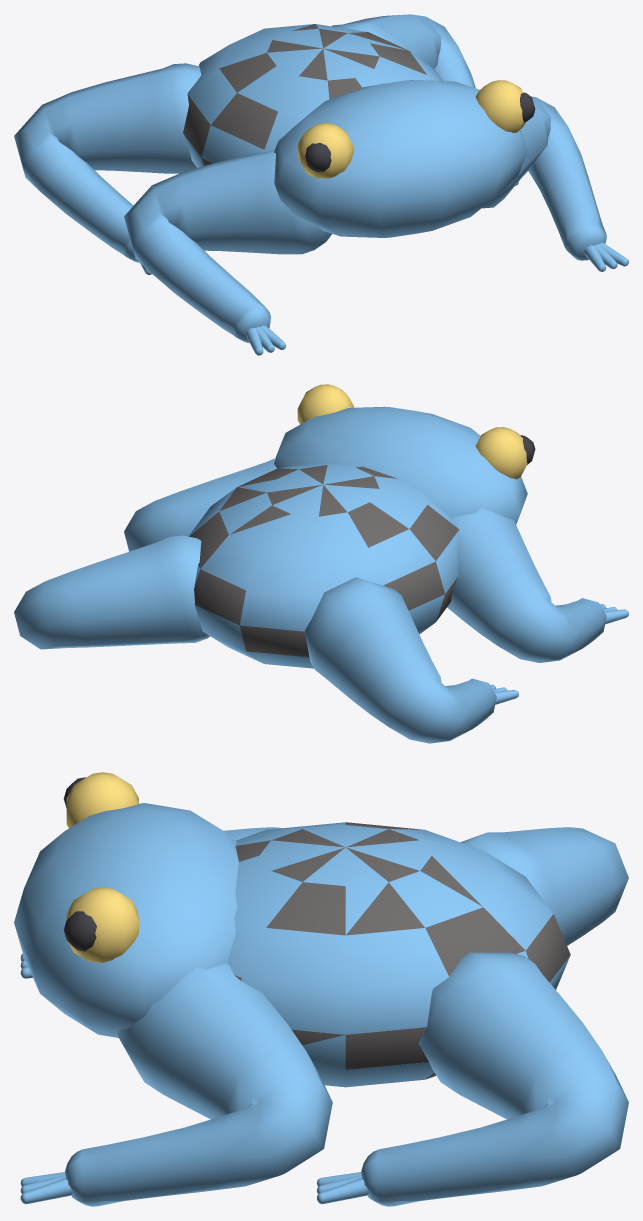
Rendered from reptiles-amphibians-and-minibeasts-poison-dart-frog-28193b91__22447.glb.
3 views of the same model, one above another, from view 1: azimuth 30°, elevation 25°; view 2: azimuth 150°, elevation 25°; view 3: azimuth 270°, elevation 25° (orthographic). The views are drawn at different scales.
Parts seen in each view (by area): view 1: poison-dart-frog; view 2: poison-dart-frog; view 3: poison-dart-frog.
Boxes of the visible parts, left/top/right/bottom form: poison-dart-frog: left=14, top=14, right=628, bottom=355; poison-dart-frog: left=14, top=384, right=628, bottom=743; poison-dart-frog: left=14, top=772, right=628, bottom=1206.
Size of the model in its own units: 0.05 by 0.021 by 0.045.
